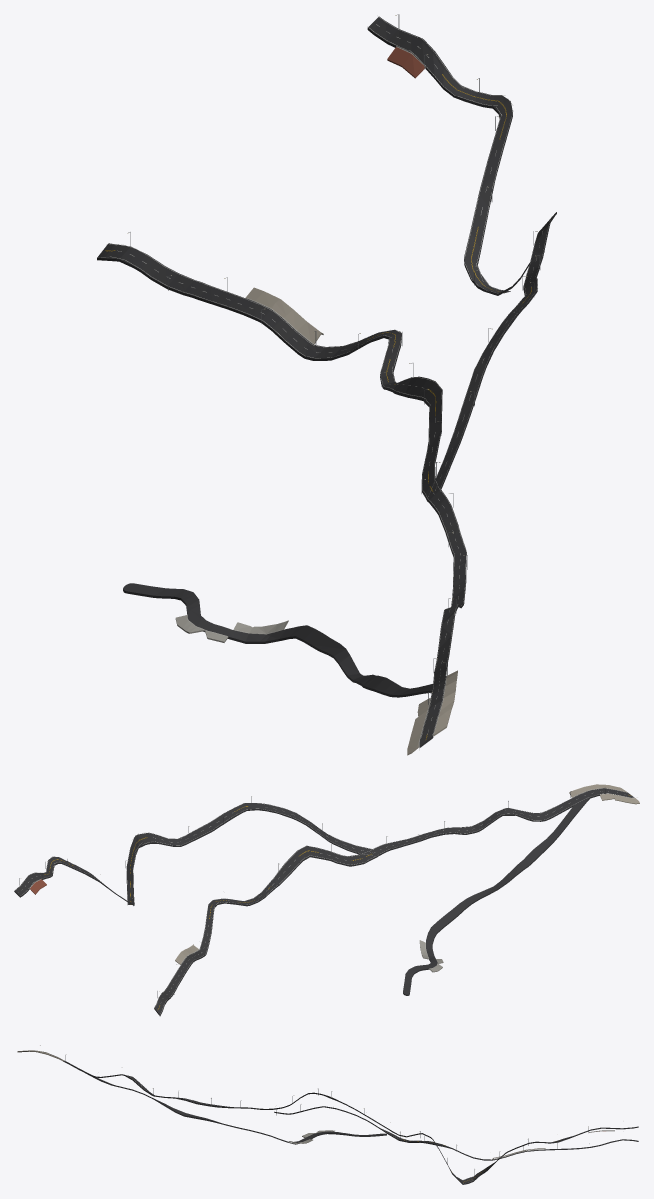
The picture shows the model from 3 angles, top to bottom: view 1: azimuth 30°, elevation 25°; view 2: azimuth 150°, elevation 25°; view 3: azimuth 270°, elevation 25°; orthographic projection. The views are drawn at different scales.
Bounding box in the file's own units: 337 × 144 × 588.
